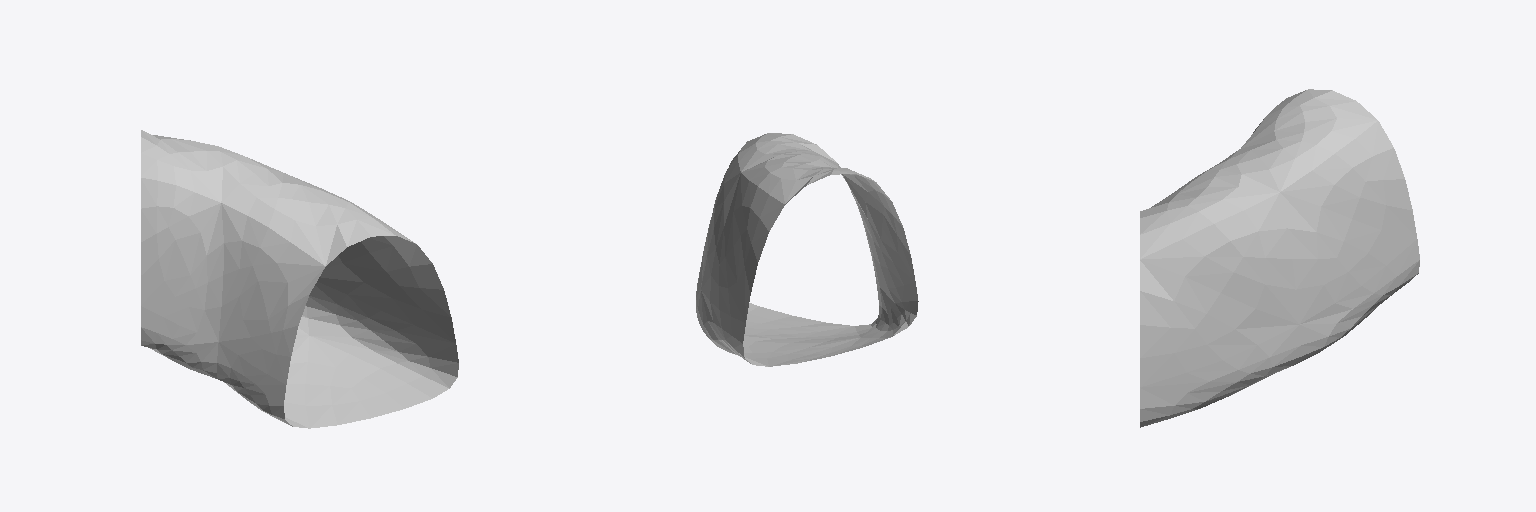
File: cave_602_2.obj
3 renders of one model, left to right at view 1: azimuth 30°, elevation 25°; view 2: azimuth 150°, elevation 25°; view 3: azimuth 270°, elevation 25°, orthographic.
Parts seen in each view (by area): view 1: cave_602_2_Cube.020; view 2: cave_602_2_Cube.020; view 3: cave_602_2_Cube.020.
Part boxes in pixels (x1,y1,x2,y2): cave_602_2_Cube.020: (141,130,458,428); cave_602_2_Cube.020: (696,133,918,366); cave_602_2_Cube.020: (1140,89,1419,427).
Bounding box in the file's own units: 8.91 × 7.81 × 8.14.